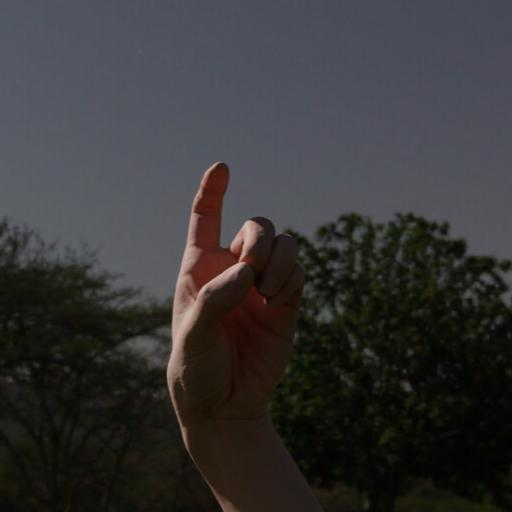X: (159, 156, 307, 422)
